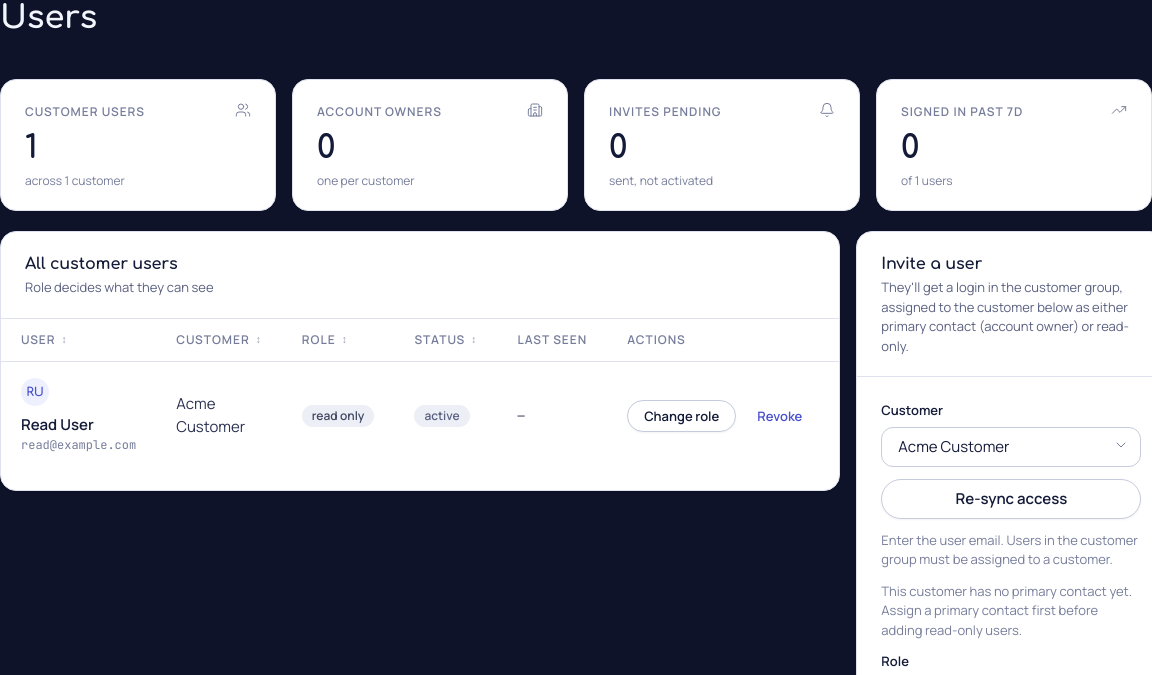
UsersAdminPage customer access actions › tells the admin when the user was removed but revoking their access failed
The image size is (1152, 675).
Click the button with aria-label "Revoke access for Read User": (780, 416) [740, 400, 819, 432]
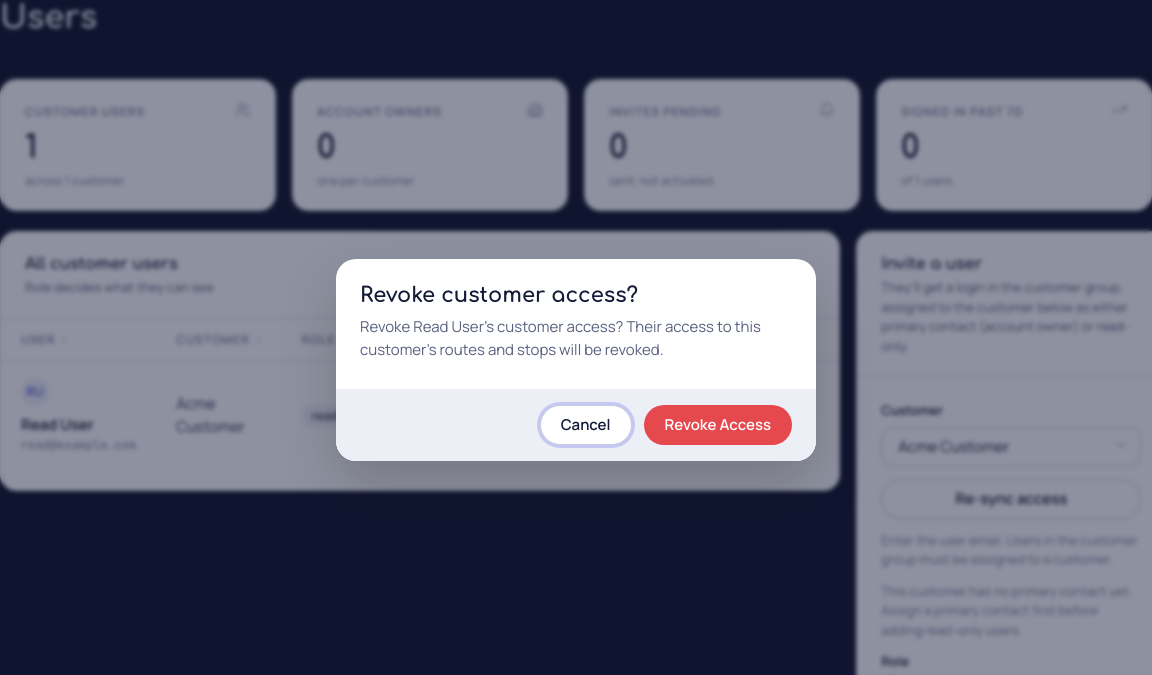
Click the button "Revoke Access": (718, 425) [644, 405, 792, 445]
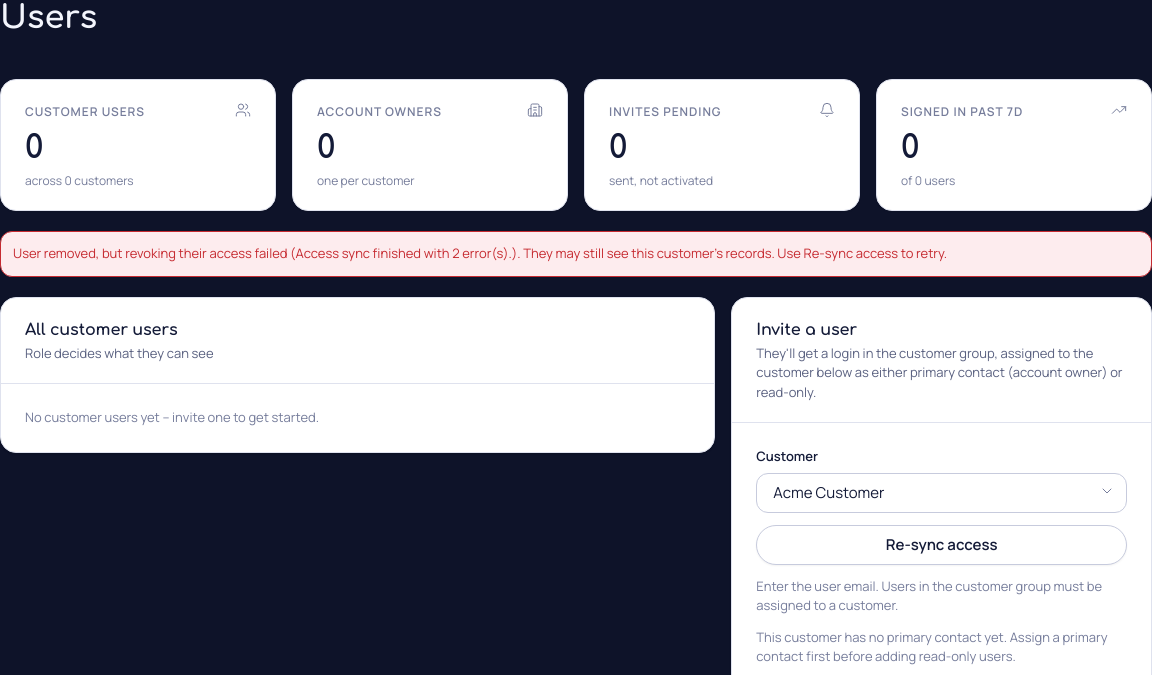
Expected: the text "revoking their access failed (Access sync finished with 2 error(s).)" is shown, [13, 244, 947, 262]
